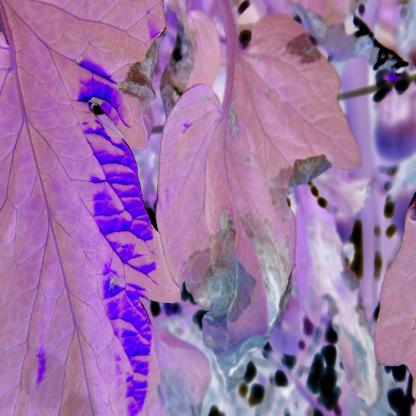Tomato leaf late blight: (144, 14, 365, 354)
